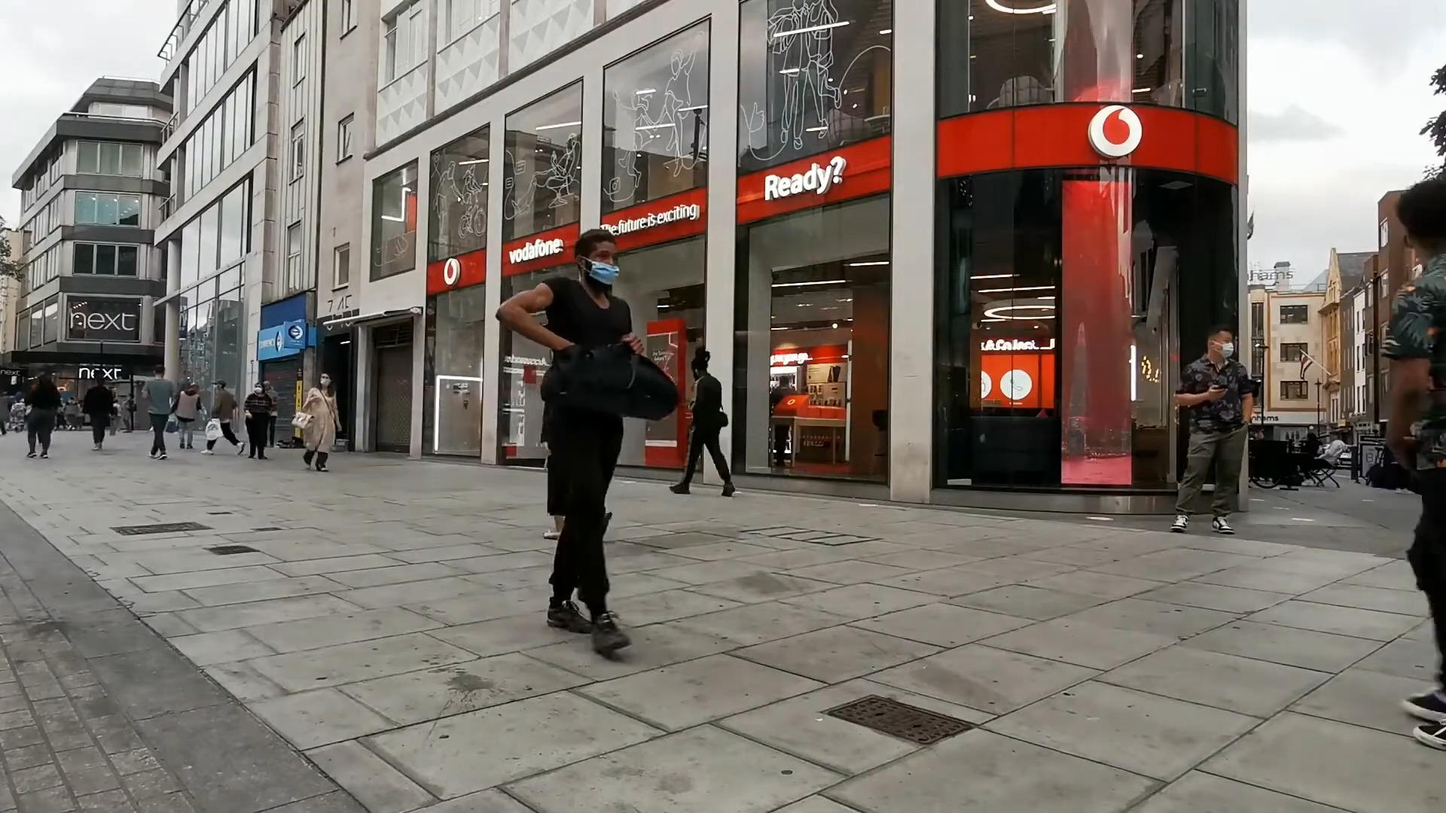no-helmet: (1396, 179, 1446, 265), (575, 229, 620, 291), (1208, 325, 1235, 358), (318, 371, 334, 388), (153, 364, 165, 378), (254, 382, 265, 395)
